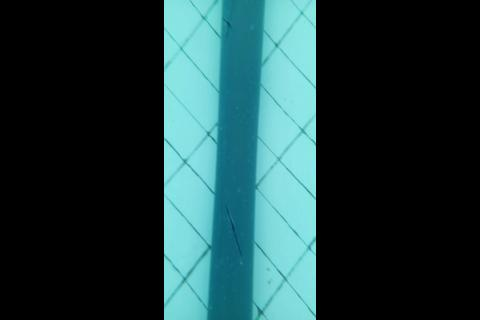keretakan: (225, 206, 242, 257), (221, 6, 234, 41)
